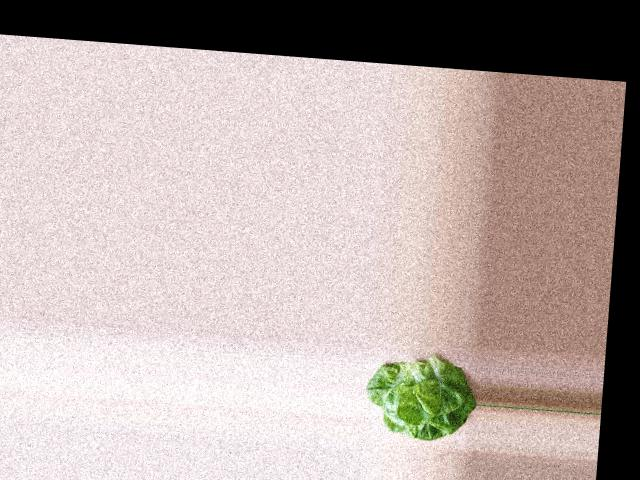lettuce: (366, 354, 477, 444)
